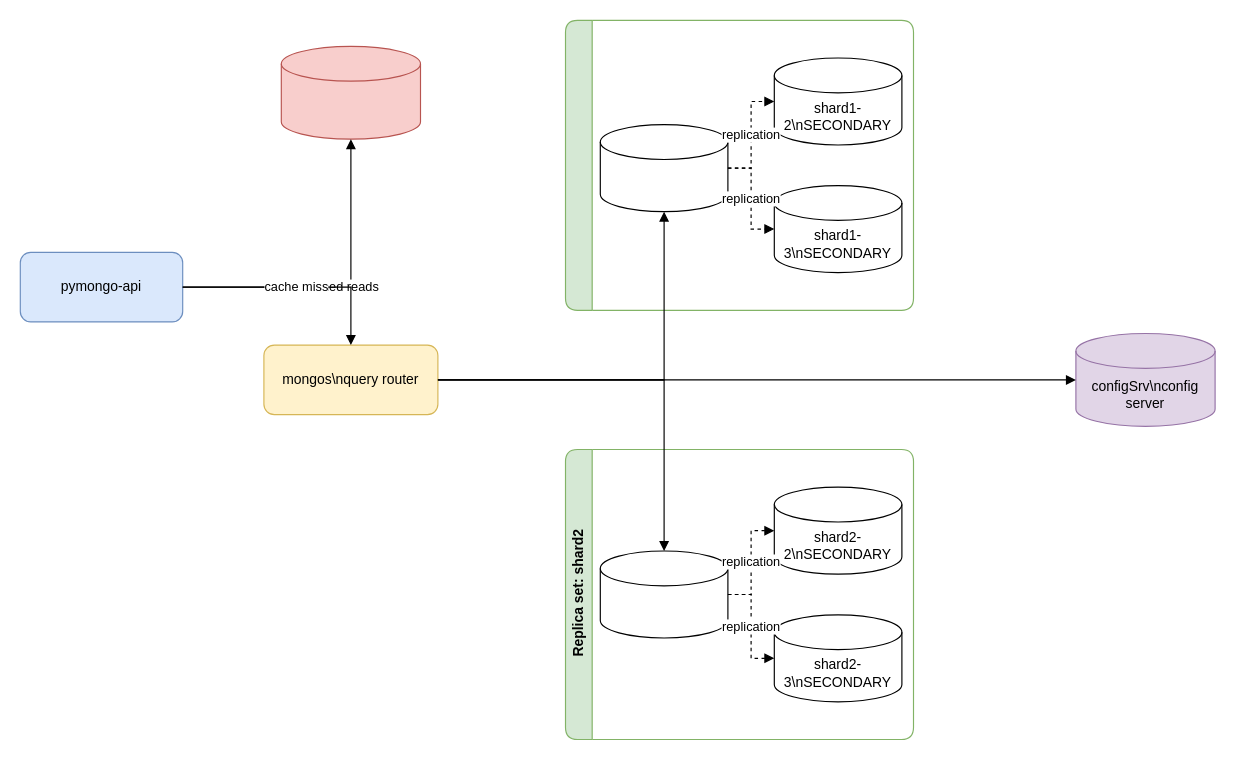
This 1235x760 diagram has some shape labels left out. The box of each missing label's shape, as (x1, y1, x2, y2) in pixels:
redis\ncache: (280, 45, 420, 139)
Replica set: shard1: (564, 19, 913, 310)
shard1-1\nPRIMARY: (599, 124, 728, 212)
shard2-1\nPRIMARY: (599, 550, 728, 638)
